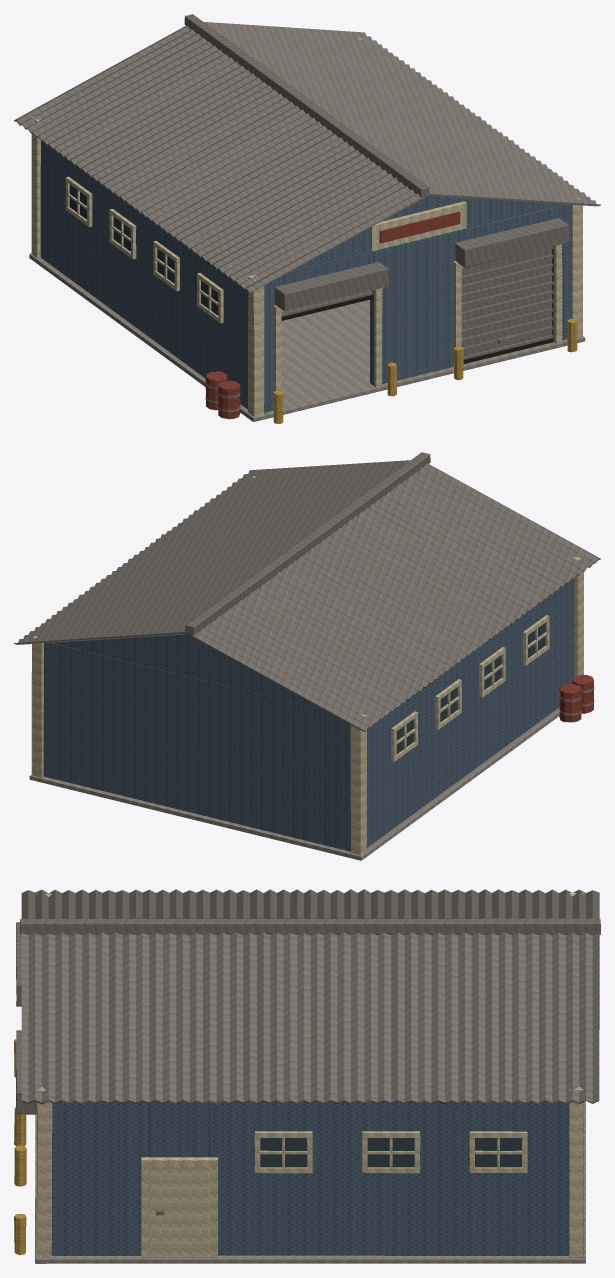
Rendered from garage.glb.
The picture shows the model from 3 angles, top to bottom: view 1: azimuth 30°, elevation 25°; view 2: azimuth 150°, elevation 25°; view 3: azimuth 270°, elevation 25°; orthographic projection. The views are drawn at different scales.
Parts seen in each view (by area): view 1: Garage; view 2: Garage; view 3: Garage.
Part boxes in pixels (x1,y1,x2,y2): Garage: (14, 14, 600, 423); Garage: (14, 452, 600, 860); Garage: (14, 889, 600, 1263).
Size of the model in its own units: 10.69 by 5.61 by 12.23.
8 materials, 6 textured.
